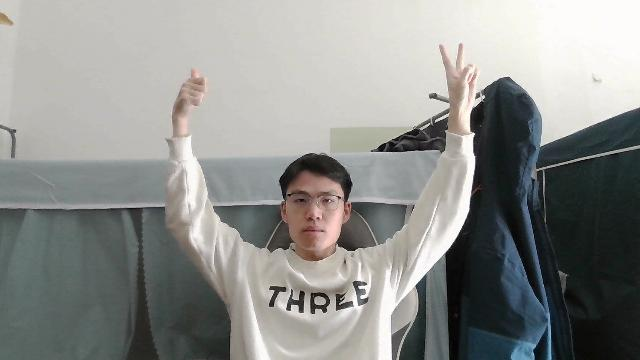good: (174, 66, 207, 119)
two: (438, 41, 477, 121)
